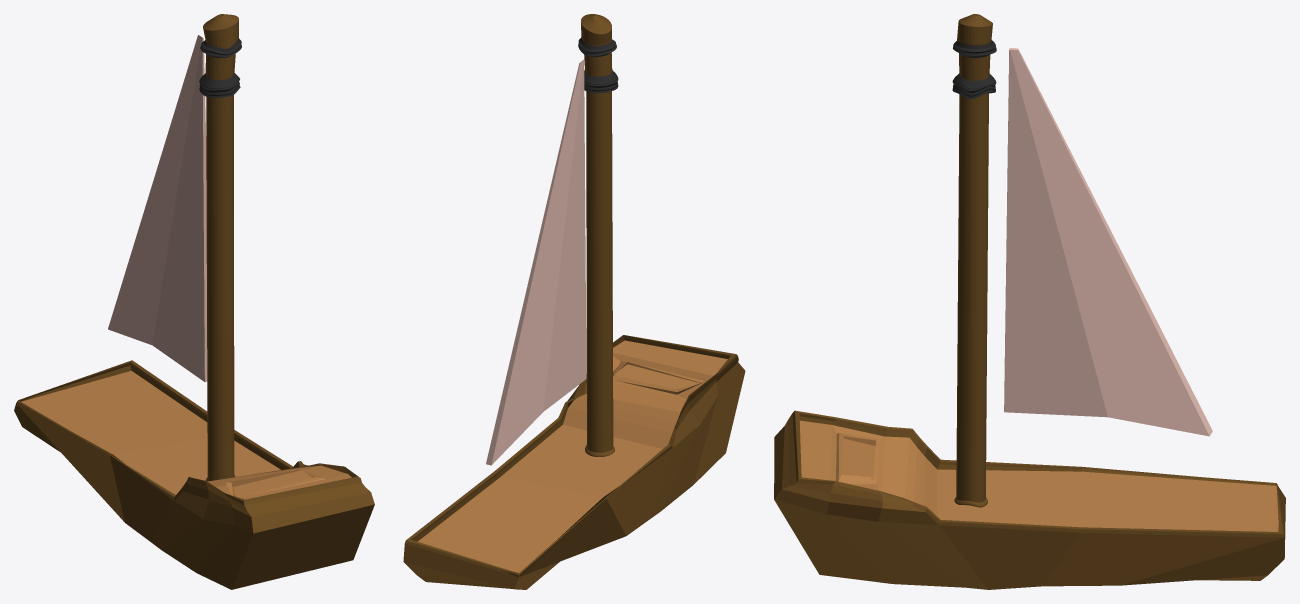
File: Boat.fbx
3 views of the same model, side by side, from view 1: azimuth 30°, elevation 25°; view 2: azimuth 150°, elevation 25°; view 3: azimuth 270°, elevation 25° (orthographic). The views are drawn at different scales.
Visible parts, largest first — view 1: Boat; view 2: Boat; view 3: Boat.
Boxes of the visible parts, bbox=[...] form: Boat: bbox=[14, 14, 374, 589]; Boat: bbox=[403, 14, 745, 589]; Boat: bbox=[774, 14, 1285, 589].
Size of the model in its own units: 103 by 411 by 346.
